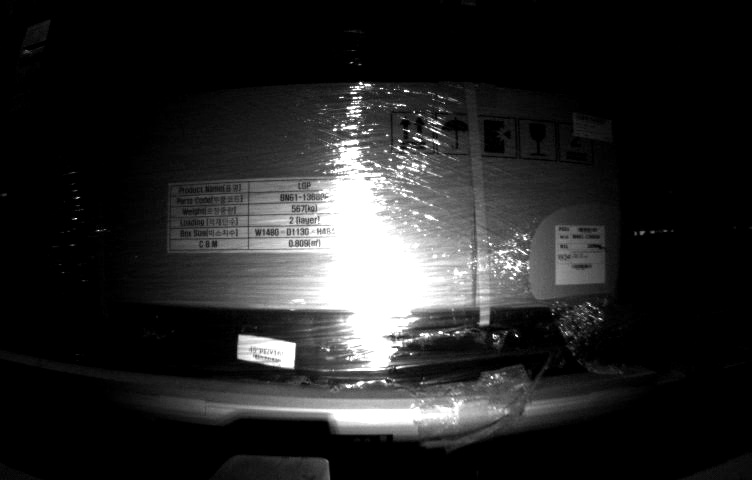True Barcode: (550, 222, 611, 286)
